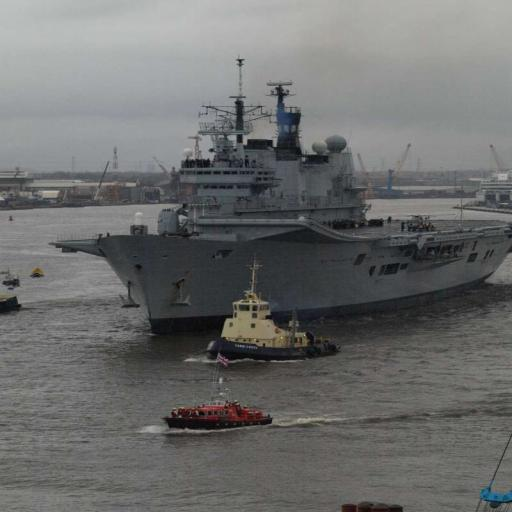Portanaves: (46, 35, 509, 343)
